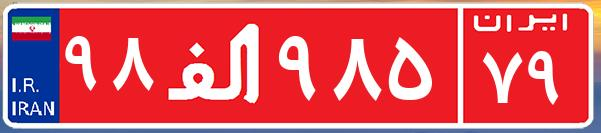5: (385, 28, 445, 110)
7: (475, 38, 525, 113)
8: (330, 28, 385, 110), (110, 28, 158, 105)
9: (273, 28, 330, 110), (57, 26, 110, 107), (525, 38, 570, 115)
الف: (158, 15, 273, 115)
